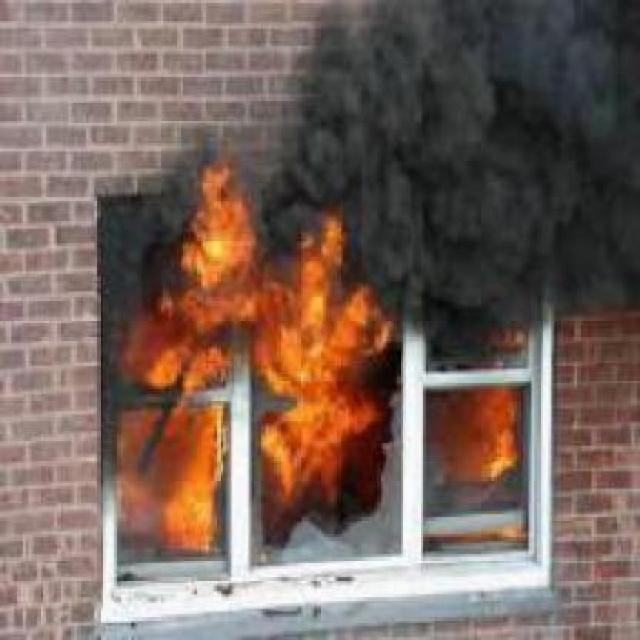Fire: (110, 142, 396, 564), (434, 388, 522, 482)
Smoke: (394, 0, 638, 362)
